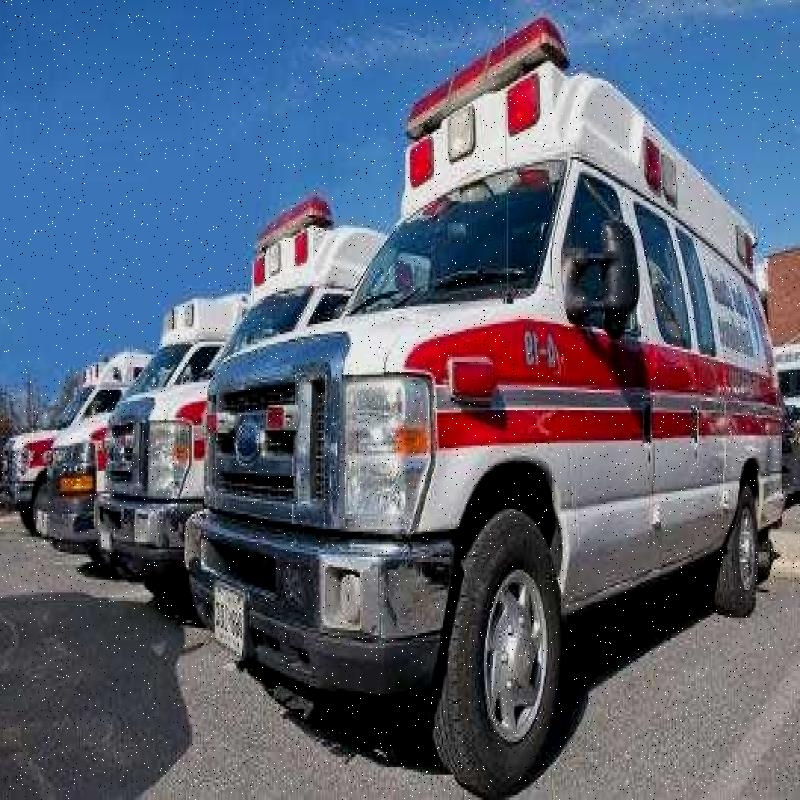AmbulanceSiren: (391, 0, 563, 157), (238, 174, 331, 267)
